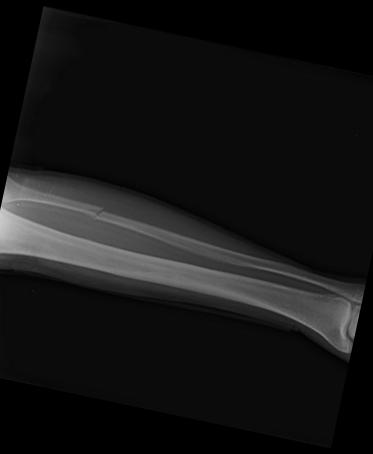fractured: (78, 203, 114, 225)
